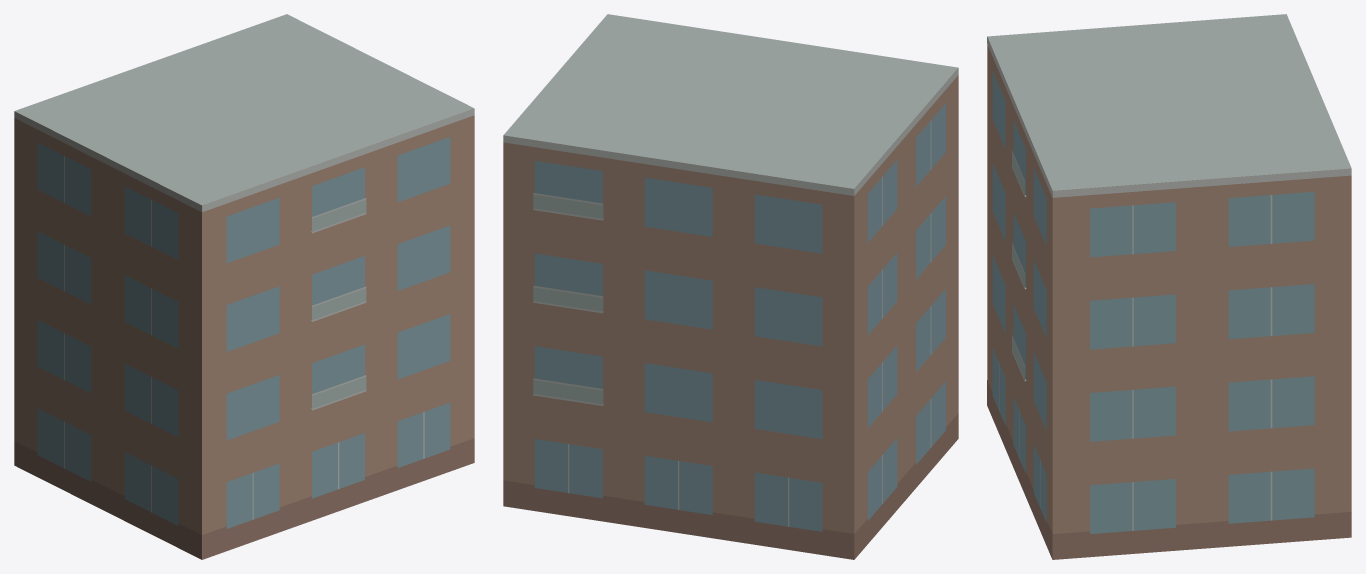
Rendered from survey-upis-32946008.glb.
3 renders of one model, left to right at view 1: azimuth 30°, elevation 25°; view 2: azimuth 150°, elevation 25°; view 3: azimuth 270°, elevation 25°, orthographic. The views are drawn at different scales.
Visible parts, largest first — view 1: survey-upis-32946008.tmp; view 2: survey-upis-32946008.tmp; view 3: survey-upis-32946008.tmp.
Part boxes in pixels (x1,y1,x2,y2): survey-upis-32946008.tmp: (14,14,474,559); survey-upis-32946008.tmp: (503,14,958,559); survey-upis-32946008.tmp: (987,14,1351,559).
Size of the model in its own units: 13.17 by 12.8 by 11.47.
